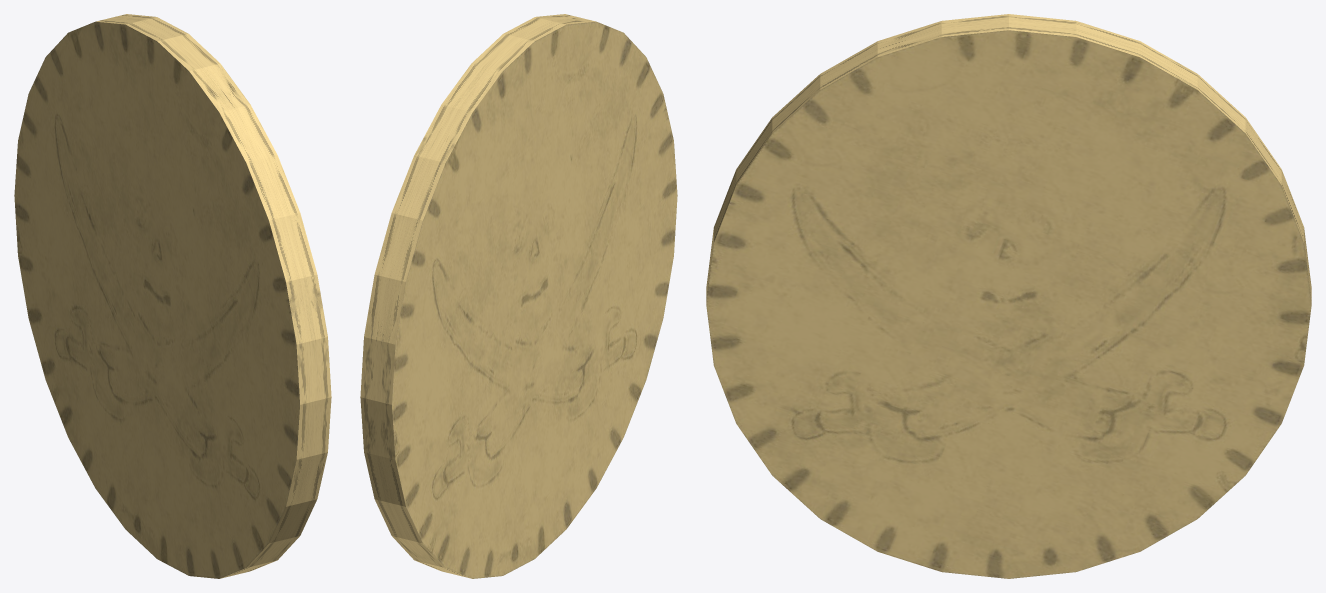
Rendered from gold-pirate-coin.glb.
The picture shows the model from 3 angles, left to right: view 1: azimuth 30°, elevation 25°; view 2: azimuth 150°, elevation 25°; view 3: azimuth 270°, elevation 25°; orthographic projection. The views are drawn at different scales.
Parts seen in each view (by area): view 1: Mesh_0; view 2: Mesh_0; view 3: Mesh_0.
Part boxes in pixels (left/top/right/bottom): Mesh_0: left=14, top=14, right=331, bottom=578; Mesh_0: left=360, top=14, right=677, bottom=578; Mesh_0: left=706, top=14, right=1311, bottom=578.
Bounding box in the file's own units: 0.6318 × 9.95 × 9.95.
1 material, 1 textured.
